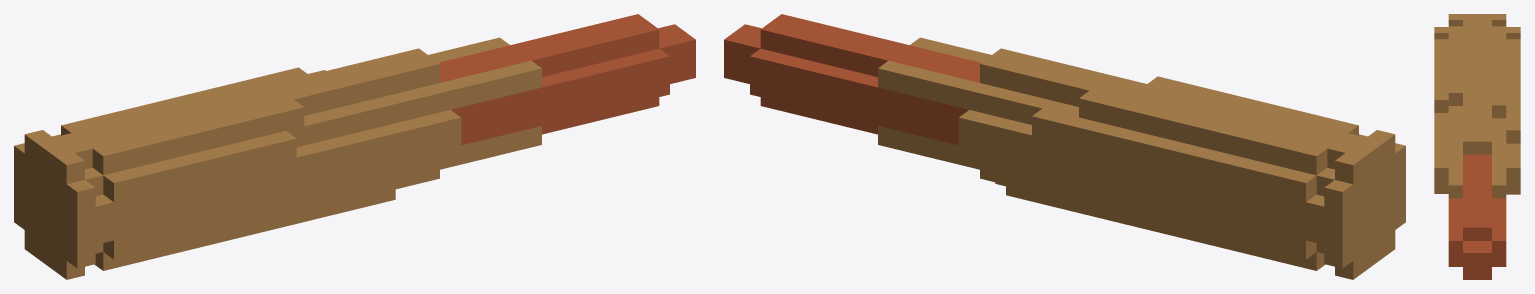
The model's file is round_308_h_winchester.glb.
3 renders of one model, left to right at view 1: azimuth 30°, elevation 25°; view 2: azimuth 150°, elevation 25°; view 3: azimuth 270°, elevation 25°, orthographic. The views are drawn at different scales.
Parts seen in each view (by area): view 1: cartridge:cartridge-model; view 2: cartridge:cartridge-model; view 3: cartridge:cartridge-model.
Part boxes in pixels (box(x1,y1,x2,y2)): cartridge:cartridge-model: box(14, 14, 695, 279); cartridge:cartridge-model: box(724, 14, 1405, 279); cartridge:cartridge-model: box(1434, 14, 1520, 279).
Bounding box in the file's own units: 0.07 × 0.012 × 0.012.
